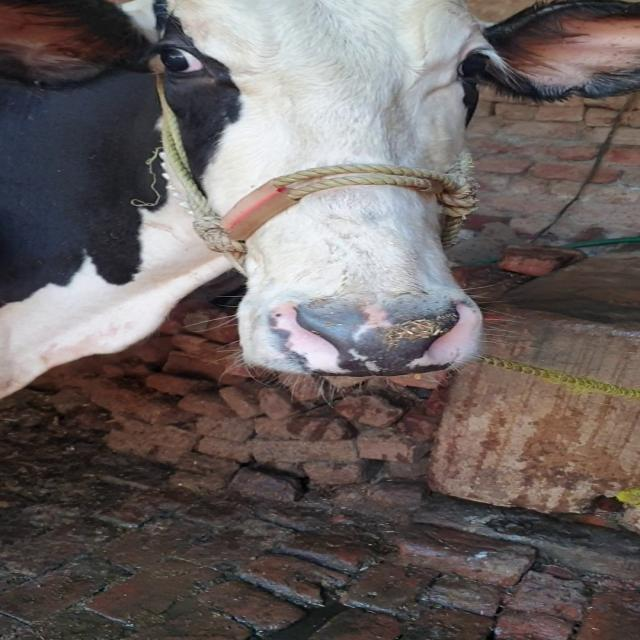cowFace: (132, 1, 508, 371)
